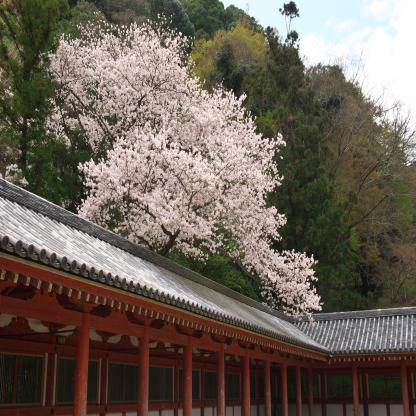Someiyoshino: (46, 21, 326, 324)
